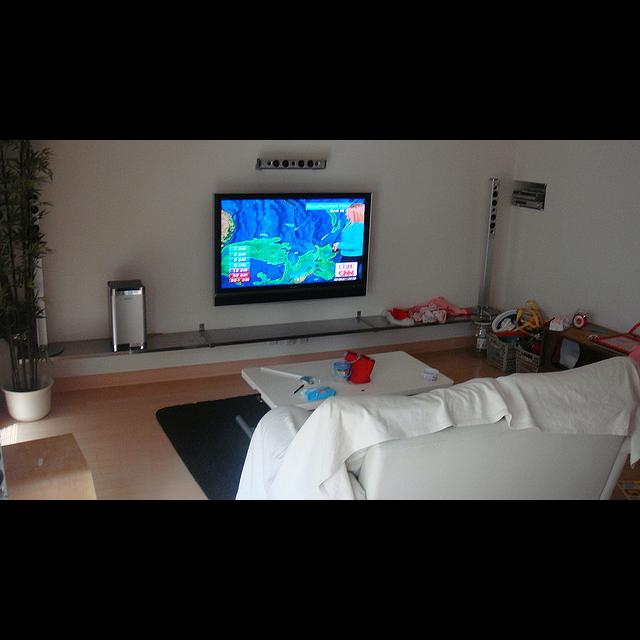Flat-Panel-TV: (210, 188, 379, 309)
